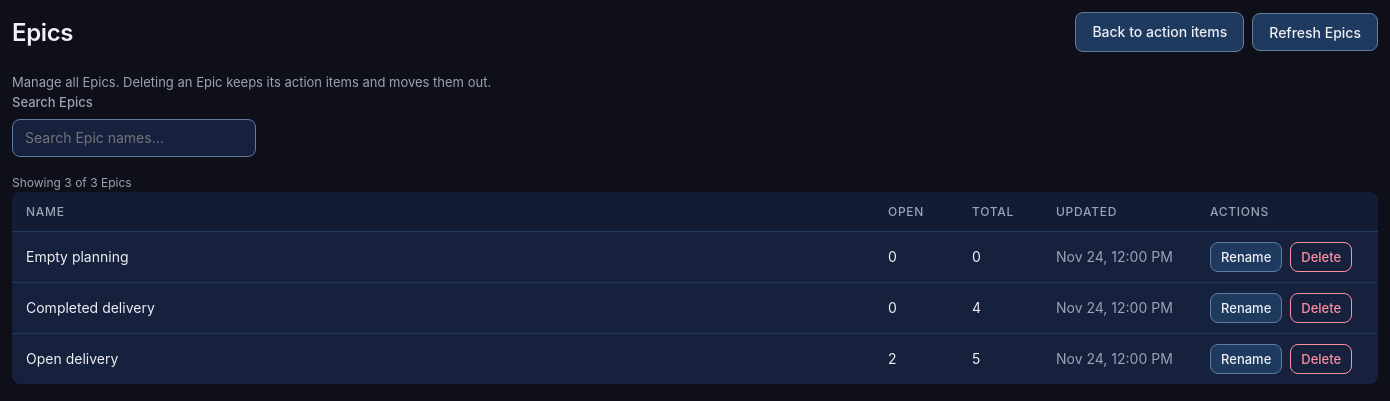
Test: loads all Epics independently of task filters and searches without another read or write
This screenshot has width=1390, height=401.
expect the text "Empty planning" is shown: met, box [12,232,874,283]
expect the text "Completed delivery" is shown: met, box [12,283,874,334]
Type "COMPLETED" into the field labelled "Search Epics".
click(134, 138); type("COMPLETED")  # box [12,119,256,157]
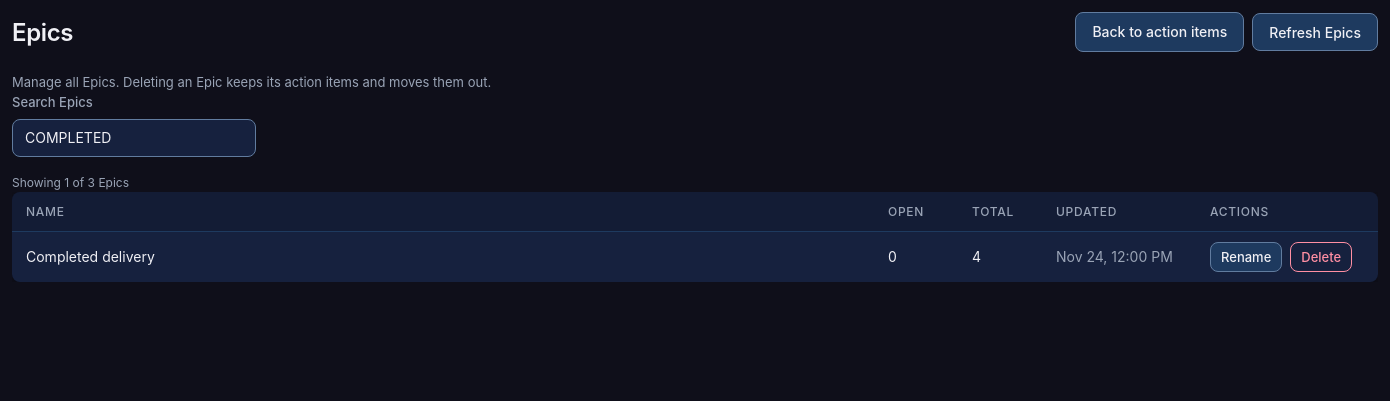
expect the text "Completed delivery" is shown: met, box [12,232,874,282]
expect the text "Empty planning" is gone: met
expect the text "Showing 1 of 3 Epics" is shown: met, box [12,175,129,190]
